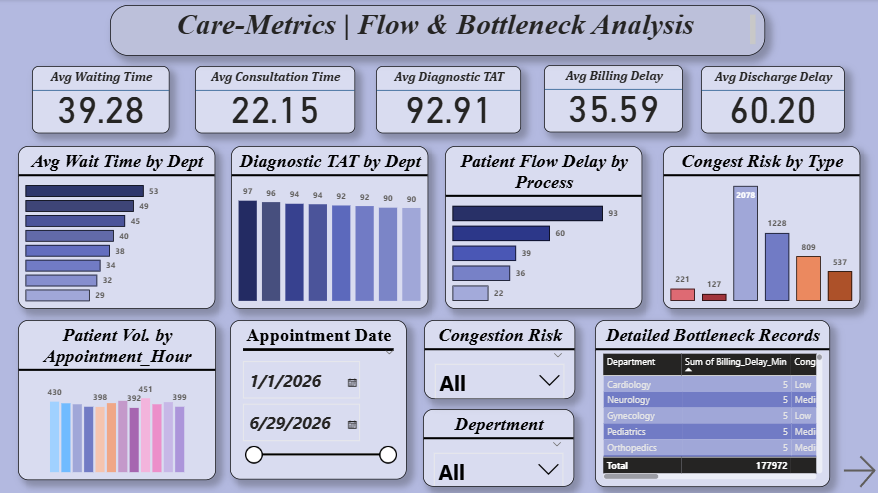

What the dashboard file says about the page in this screenshot:
{"tool":"powerbi","page":{"name":"Patient Flow & Bottlenecks","canvas":[1280,720],"ordinal":1},"visuals":[{"type":"card","title":"Avg Waiting Time","fields":{"Values":["PowerBI_Unified.Avg Waiting Time"]},"box":[47.9,98,200.3,98],"z":0},{"type":"clusteredBarChart","title":"Avg Wait Time by Dept","fields":{"Category":["PowerBI_Unified.Department"],"Y":["PowerBI_Unified.Avg Waiting Time"]},"box":[28.3,213.3,287.3,237.3],"z":1000},{"type":"card","title":"Avg Diagnostic TAT","fields":{"Values":["PowerBI_Unified.Avg Diagnostic TAT"]},"box":[548.6,98,211.2,98],"z":2000},{"type":"card","title":"Avg Consultation Time","fields":{"Values":["PowerBI_Unified.Avg Consultation Time"]},"box":[285.2,98,232.9,98],"z":3000},{"type":"card","title":"Avg Billing Delay","fields":{"Values":["PowerBI_Unified.Avg Billing Delay"]},"box":[792.4,95.8,202.4,98],"z":4000},{"type":"card","title":"Avg Discharge Delay","fields":{"Values":["PowerBI_Unified.Avg Discharge Delay"]},"box":[1021,98,209,98],"z":5000},{"type":"textbox","box":[161.1,8.7,953.5,74],"z":6000},{"type":"slicer","title":"Appointment Date","fields":{"Values":["PowerBI_Unified.Appointment_Date"]},"box":[336.7,466.7,256.7,231.7],"z":7000},{"type":"clusteredColumnChart","title":"Diagnostic TAT by Dept","fields":{"Category":["PowerBI_Unified.Department"],"Y":["PowerBI_Unified.Avg Diagnostic TAT"]},"box":[337.4,213.3,287.3,237.3],"z":8000},{"type":"slicer","title":"Depertment","fields":{"Values":["PowerBI_Unified.Department"]},"box":[616.7,596.7,220,113.3],"z":9000},{"type":"slicer","title":"Congestion Risk","fields":{"Values":["Calendar.Capacity Status"]},"box":[618.3,466.7,220,115],"z":10000},{"type":"actionButton","box":[1221.3,652.9,58.7,68.1],"z":11000},{"type":"columnChart","title":"Congest Risk by Type","fields":{"Category":["PowerBI_Unified.Congestion_Risk","PowerBI_Unified.Admission_Type"],"Y":["CountNonNull(PowerBI_Unified.Encounter_ID)"]},"box":[966.5,213.3,287.3,237.3],"z":12000},{"type":"clusteredBarChart","title":"Patient Flow Delay by Process","fields":{"Category":["Process_Stages.Process"],"Y":["PowerBI_Unified.Process Delay"]},"box":[648.7,213.3,287.3,237.3],"z":13000},{"type":"columnChart","title":"Patient Vol. by Appointment_Hour","fields":{"Category":["PowerBI_Unified.Appointment_Hour"],"Y":["CountNonNull(PowerBI_Unified.Encounter_ID)"]},"box":[28.3,466.7,288.3,233.3],"z":14000},{"type":"tableEx","title":"Detailed Bottleneck Records","fields":{"Values":["PowerBI_Unified.Department","Sum(PowerBI_Unified.Billing_Delay_Min)","PowerBI_Unified.Congestion_Risk","Sum(PowerBI_Unified.Discharge_Delay_Min)","Sum(PowerBI_Unified.Diagnostic_TAT_Min)","Sum(PowerBI_Unified.Waiting_Time_Min)","PowerBI_Unified.Encounter_ID","Sum(PowerBI_Unified.Consultation_Time_Min)"]},"box":[866.7,466.7,341.7,243.3],"z":15000}]}

Visuals, with their boxes in screenshot pixels (x1, y1, x2, y2), scaled from the page's 1280x720 canvas onto the 878x493 screenshot:
"Avg Waiting Time" card: [x1=33, y1=67, x2=170, y2=134]
"Avg Wait Time by Dept" clusteredBarChart: [x1=19, y1=146, x2=216, y2=309]
"Avg Diagnostic TAT" card: [x1=376, y1=67, x2=521, y2=134]
"Avg Consultation Time" card: [x1=196, y1=67, x2=355, y2=134]
"Avg Billing Delay" card: [x1=544, y1=66, x2=682, y2=133]
"Avg Discharge Delay" card: [x1=700, y1=67, x2=844, y2=134]
textbox: [x1=111, y1=6, x2=765, y2=57]
"Appointment Date" slicer: [x1=231, y1=320, x2=407, y2=478]
"Diagnostic TAT by Dept" clusteredColumnChart: [x1=231, y1=146, x2=429, y2=309]
"Depertment" slicer: [x1=423, y1=409, x2=574, y2=486]
"Congestion Risk" slicer: [x1=424, y1=320, x2=575, y2=398]
actionButton: [x1=838, y1=447, x2=877, y2=492]
"Congest Risk by Type" columnChart: [x1=663, y1=146, x2=860, y2=309]
"Patient Flow Delay by Process" clusteredBarChart: [x1=445, y1=146, x2=642, y2=309]
"Patient Vol. by Appointment_Hour" columnChart: [x1=19, y1=320, x2=217, y2=479]
"Detailed Bottleneck Records" tableEx: [x1=595, y1=320, x2=829, y2=486]
